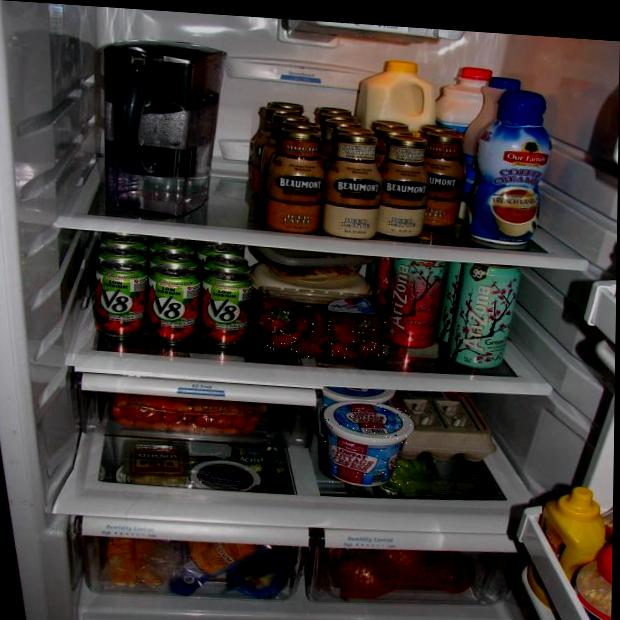strawberries: (324, 340, 362, 362), (267, 330, 301, 353), (353, 339, 384, 357), (328, 320, 361, 336), (361, 318, 386, 338), (268, 311, 291, 332), (301, 339, 322, 358), (308, 322, 330, 337), (295, 313, 314, 330)
yoghurt: (322, 399, 413, 489)
